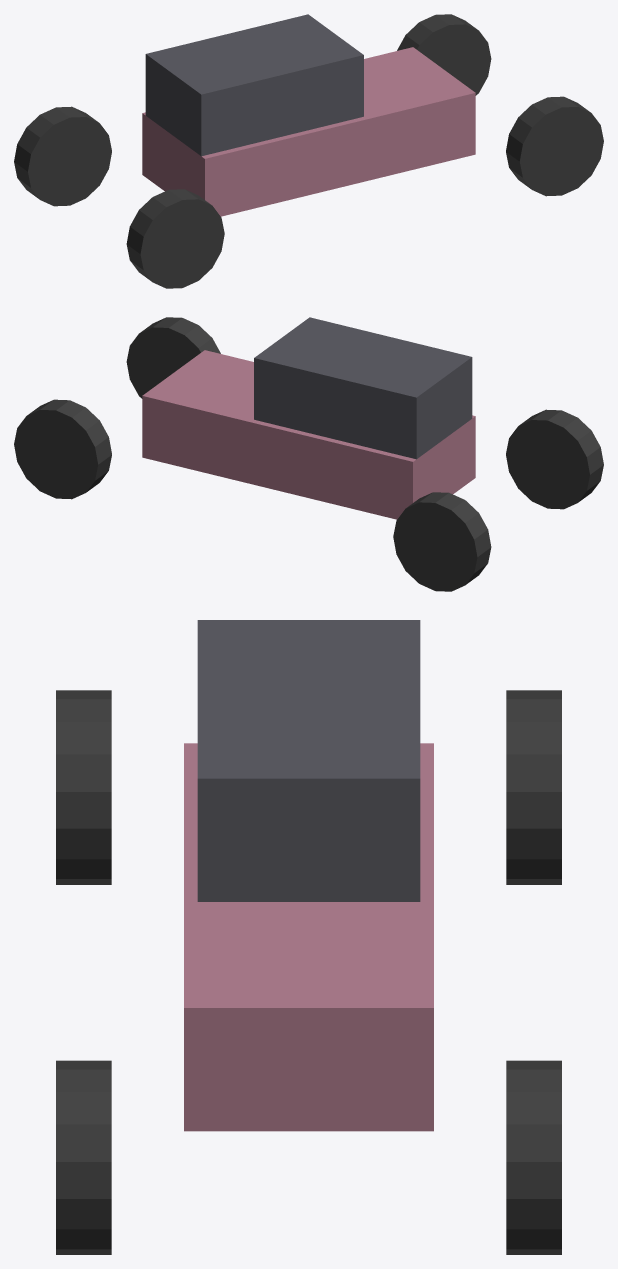
File: vehicle_car_sedan.glb
3 views of the same model, one above another, from view 1: azimuth 30°, elevation 25°; view 2: azimuth 150°, elevation 25°; view 3: azimuth 270°, elevation 25° (orthographic). The views are drawn at different scales.
Parts seen in each view (by area): view 1: vehicle_car_sedan; view 2: vehicle_car_sedan; view 3: vehicle_car_sedan.
Boxes of the visible parts, x1=… form: vehicle_car_sedan: x1=14, y1=14, x2=603, y2=288; vehicle_car_sedan: x1=14, y1=317, x2=603, y2=591; vehicle_car_sedan: x1=56, y1=620, x2=561, y2=1254.
Bounding box in the file's own units: 3.85 × 1.23 × 1.82.
